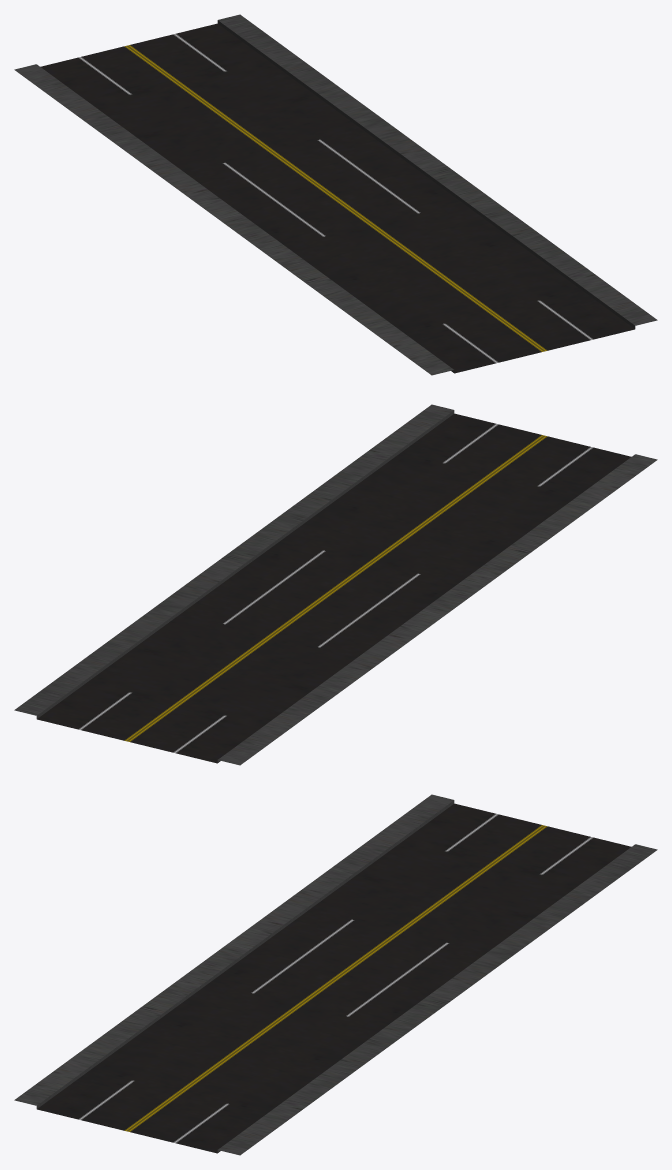
The model's file is RJs_Road Slim 2+2 Basic Segment_lod.fbx.
The picture shows the model from 3 angles, top to bottom: view 1: azimuth 30°, elevation 25°; view 2: azimuth 150°, elevation 25°; view 3: azimuth 330°, elevation 25°; orthographic projection.
Parts seen in each view (by area): view 1: plane_lod; view 2: plane_lod; view 3: plane_lod.
Boxes of the visible parts, bbox=[...] form: plane_lod: bbox=[14, 14, 657, 375]; plane_lod: bbox=[14, 404, 657, 765]; plane_lod: bbox=[14, 794, 657, 1155].
Size of the model in its own units: 2000 by 30 by 6400.
